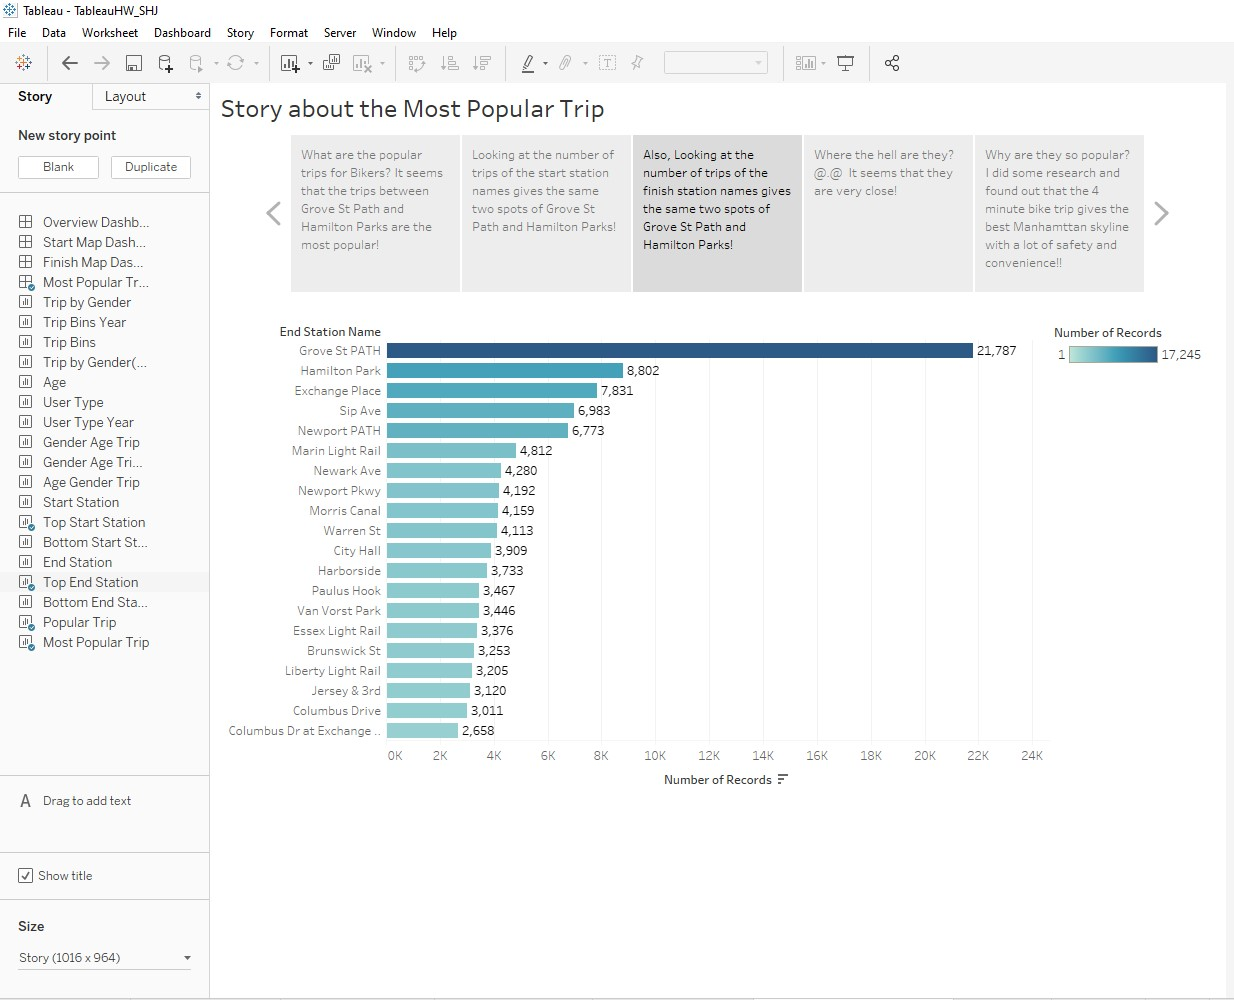

Layout of this report page (visuals, bound fields, positions):
{"tool":"tableau","page":{"name":"Finish Map Dashboard","canvas":[1000,800],"ordinal":0},"visuals":[{"type":"worksheet","title":"End Station","mark":"Square","rows":["Start Station Latitude"],"cols":["End Station Longitude"],"box":[27,32,518,625]},{"type":"worksheet","title":"Top End Station","mark":"Bar","rows":["End Station Name"],"cols":["Number of Records"],"box":[575,39,393,414]},{"type":"worksheet","title":"Bottom End Station","mark":"Bar","rows":["End Station Name"],"cols":["Number of Records"],"box":[591,487,377,281]},{"type":"legend","title":"End Station","param":"[federated.093bcvo16awe271av9blk055fpej].[sum:Number of Records:qk]","box":[29,672,149,118]},{"type":"legend","title":"End Station","param":"[federated.093bcvo16awe271av9blk055fpej].[sum:Number of Records:qk]","box":[209,678,270,76]}]}

Visuals, with their boxes on the page's 1000x800 design canvas (x1, y1, x2, y2). These are canvas units, not pixel positions in the 1234x1000 screenshot, which may show the page scaled, cropped or inside an application window:
"End Station" worksheet (Square marks): 27 32 545 657
"Top End Station" worksheet (Bar marks): 575 39 968 453
"Bottom End Station" worksheet (Bar marks): 591 487 968 768
"End Station" legend: 29 672 178 790
"End Station" legend: 209 678 479 754
